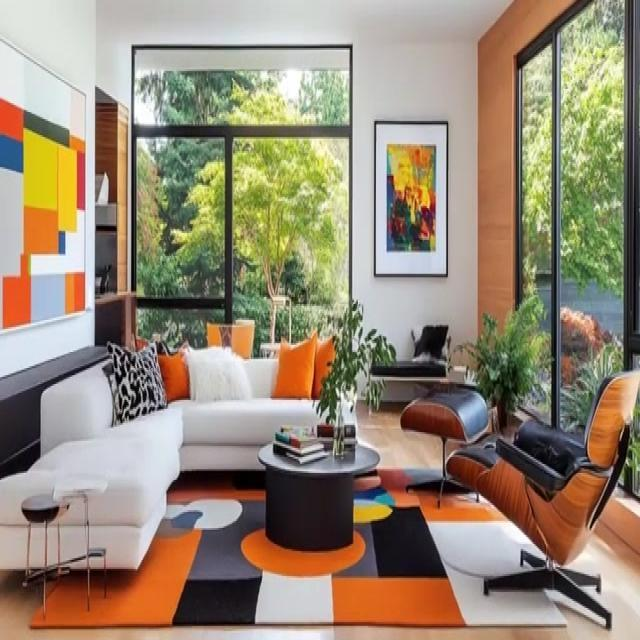obstacle: (0, 343, 350, 573), (444, 366, 639, 630), (257, 436, 380, 550)
